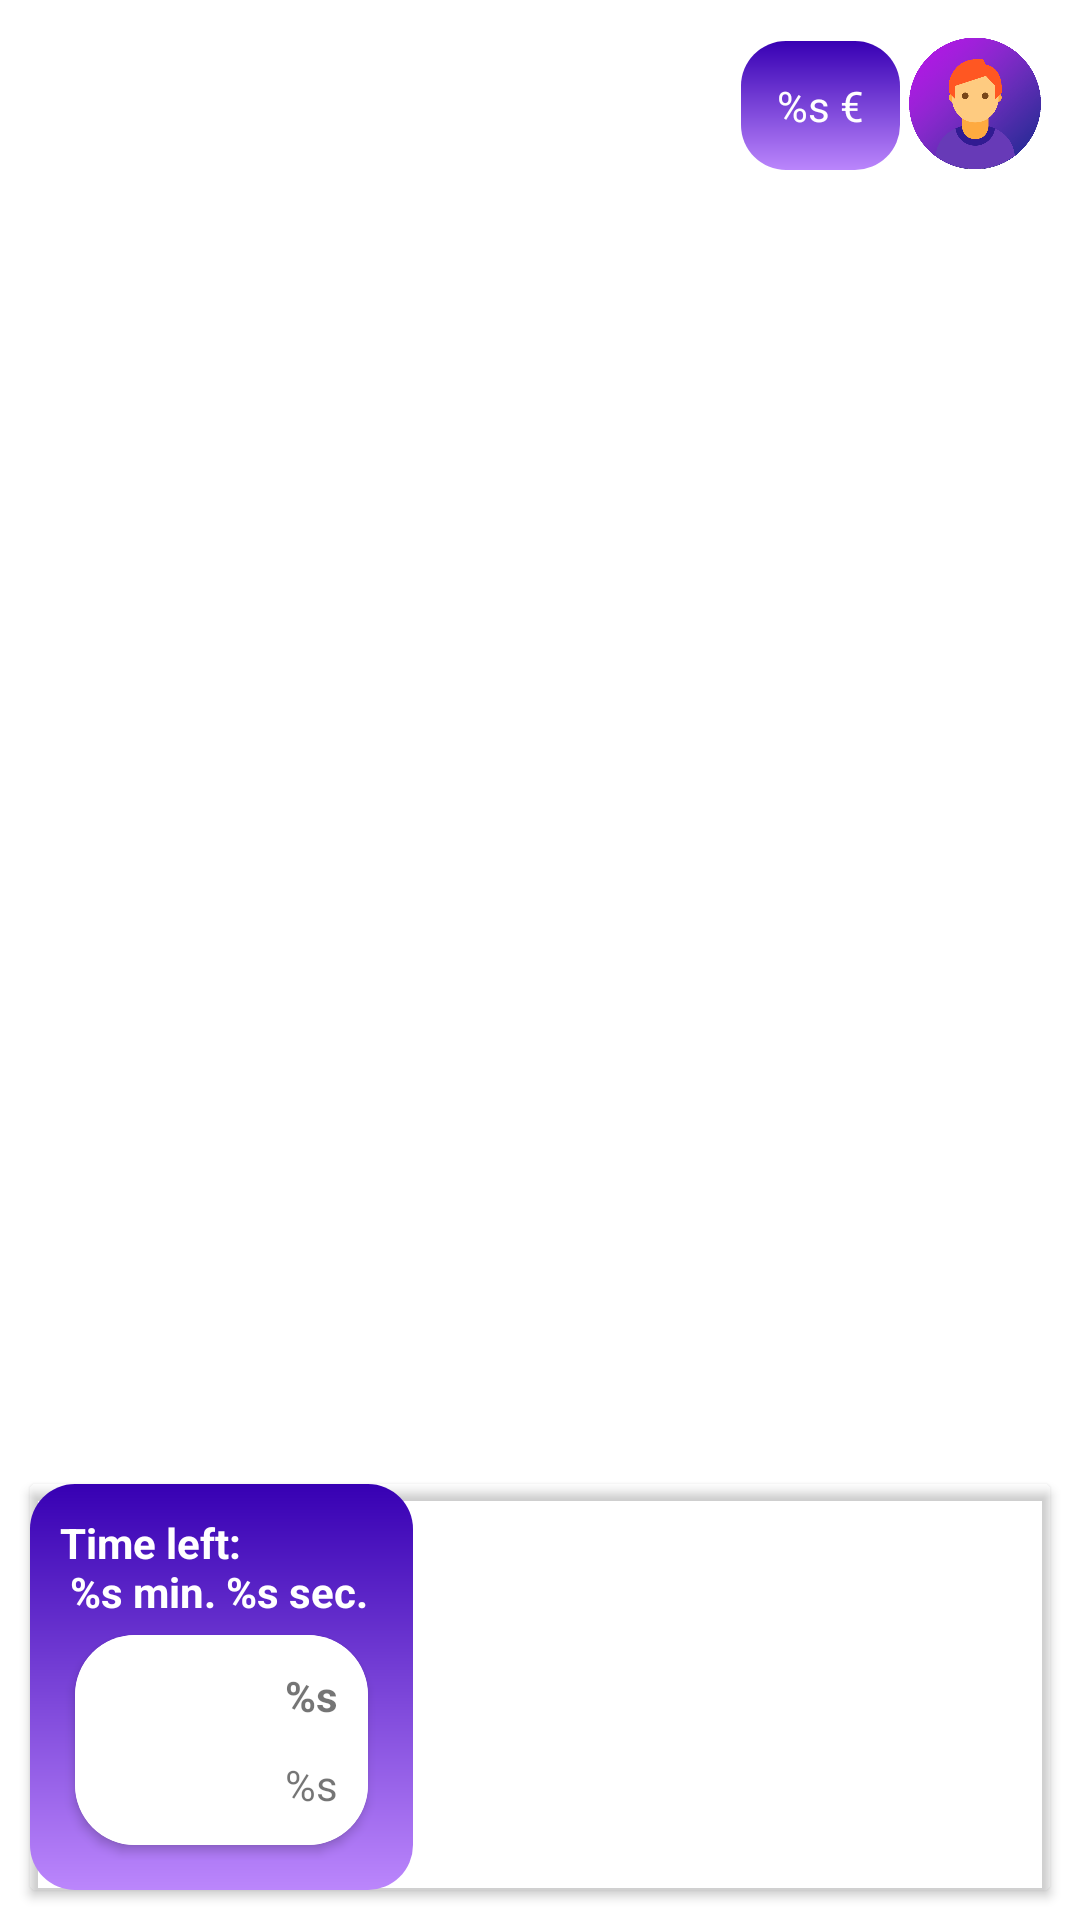

Where icons sit on this 1080 x 1920 app screen, as (x1, y1, x2, y2):
user: (909, 38, 1041, 169)
